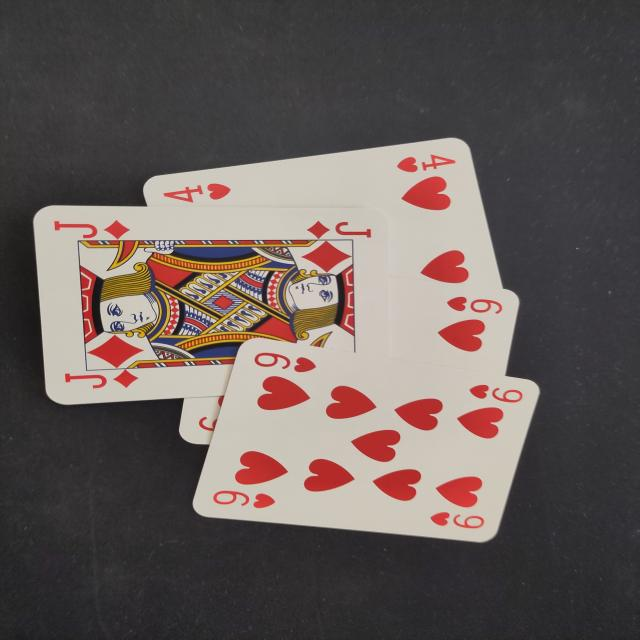4h: (157, 180, 237, 210), (391, 152, 461, 178)
6h: (443, 287, 511, 322)
9h: (206, 484, 286, 514), (254, 347, 323, 379), (461, 376, 525, 410), (425, 505, 490, 537)
Jd: (296, 214, 379, 249), (56, 366, 146, 398), (46, 213, 137, 244)
